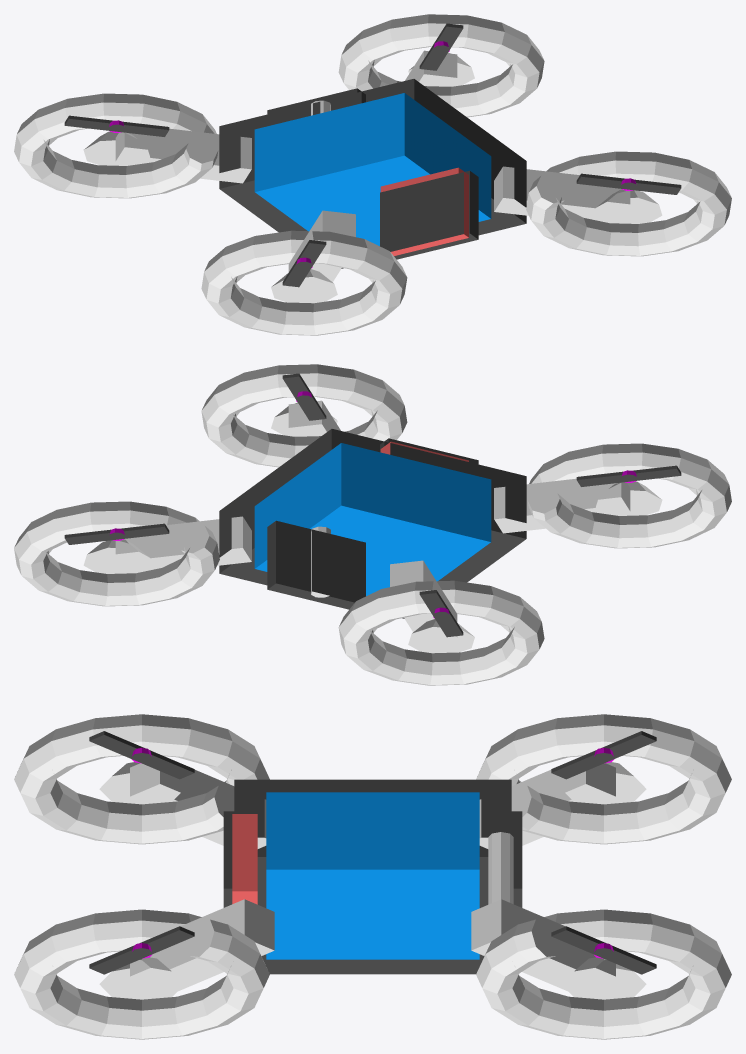
File: DroneWatch.glb
3 renders of one model, top to bottom at view 1: azimuth 30°, elevation 25°; view 2: azimuth 150°, elevation 25°; view 3: azimuth 270°, elevation 25°, orthographic. The views are drawn at different scales.
Visible parts, largest first — view 1: DroneScreen, Arm_FL_Toro, Arm_BL_Toro, Arm_FR_Toro, Arm_BR_Toro, DroneBody, Bar1, Arm_FR_Arm, Arm_BL_Arm, Arm_FR_Rotor, Arm_FL_Arm, Arm_FL_Rotor (+8 smaller); view 2: DroneScreen, Arm_BL_Toro, Arm_FL_Toro, Arm_BR_Toro, Arm_FR_Toro, DroneBody, Bar2, Arm_BR_Arm, Arm_FL_Arm, Arm_BR_Rotor, Arm_BL_Arm, Arm_BL_Rotor (+7 smaller); view 3: DroneScreen, Arm_FR_Toro, Arm_BR_Toro, Arm_FL_Toro, Arm_BL_Toro, DroneBody, Arm_FR_Arm, Arm_BR_Arm, Arm_FL_Arm, Arm_BL_Arm, Button, Arm_FR_Rotor (+10 smaller).
Boxes of the visible parts, x1=… form: DroneScreen: x1=254, y1=93, x2=491, y2=245; Arm_FL_Toro: x1=201, y1=230, x2=407, y2=335; Arm_BL_Toro: x1=14, y1=93, x2=218, y2=198; Arm_FR_Toro: x1=526, y1=151, x2=731, y2=256; Arm_BR_Toro: x1=338, y1=14, x2=544, y2=117; DroneBody: x1=219, y1=79, x2=526, y2=268; Bar1: x1=380, y1=170, x2=478, y2=259; Arm_FR_Arm: x1=494, y1=166, x2=630, y2=223; Arm_BL_Arm: x1=115, y1=128, x2=251, y2=183; Arm_FR_Rotor: x1=595, y1=189, x2=662, y2=223; Arm_FL_Arm: x1=288, y1=210, x2=355, y2=286; Arm_FL_Rotor: x1=271, y1=269, x2=337, y2=303; DroneScreen: x1=254, y1=443, x2=491, y2=595; Arm_BL_Toro: x1=338, y1=580, x2=544, y2=685; Arm_FL_Toro: x1=527, y1=443, x2=731, y2=548; Arm_BR_Toro: x1=14, y1=501, x2=219, y2=606; Arm_FR_Toro: x1=201, y1=364, x2=407, y2=467; DroneBody: x1=219, y1=429, x2=526, y2=618; Bar2: x1=267, y1=520, x2=365, y2=609; Arm_BR_Arm: x1=115, y1=516, x2=251, y2=573; Arm_FL_Arm: x1=494, y1=478, x2=630, y2=533; Arm_BR_Rotor: x1=83, y1=539, x2=150, y2=573; Arm_BL_Arm: x1=390, y1=560, x2=457, y2=636; Arm_BL_Rotor: x1=408, y1=619, x2=474, y2=653; DroneScreen: x1=266, y1=792, x2=479, y2=959; Arm_FR_Toro: x1=14, y1=909, x2=269, y2=1039; Arm_BR_Toro: x1=476, y1=909, x2=731, y2=1039; Arm_FL_Toro: x1=14, y1=714, x2=269, y2=844; Arm_BL_Toro: x1=476, y1=714, x2=731, y2=844; DroneBody: x1=234, y1=779, x2=511, y2=974; Arm_FR_Arm: x1=130, y1=899, x2=274, y2=991; Arm_BR_Arm: x1=471, y1=899, x2=615, y2=991; Arm_FL_Arm: x1=130, y1=763, x2=266, y2=848; Arm_BL_Arm: x1=479, y1=763, x2=615, y2=848; Button: x1=232, y1=814, x2=257, y2=904; Arm_FR_Rotor: x1=99, y1=957, x2=184, y2=999.
Size of the model in its own units: 16.83 by 2.02 by 16.83.
